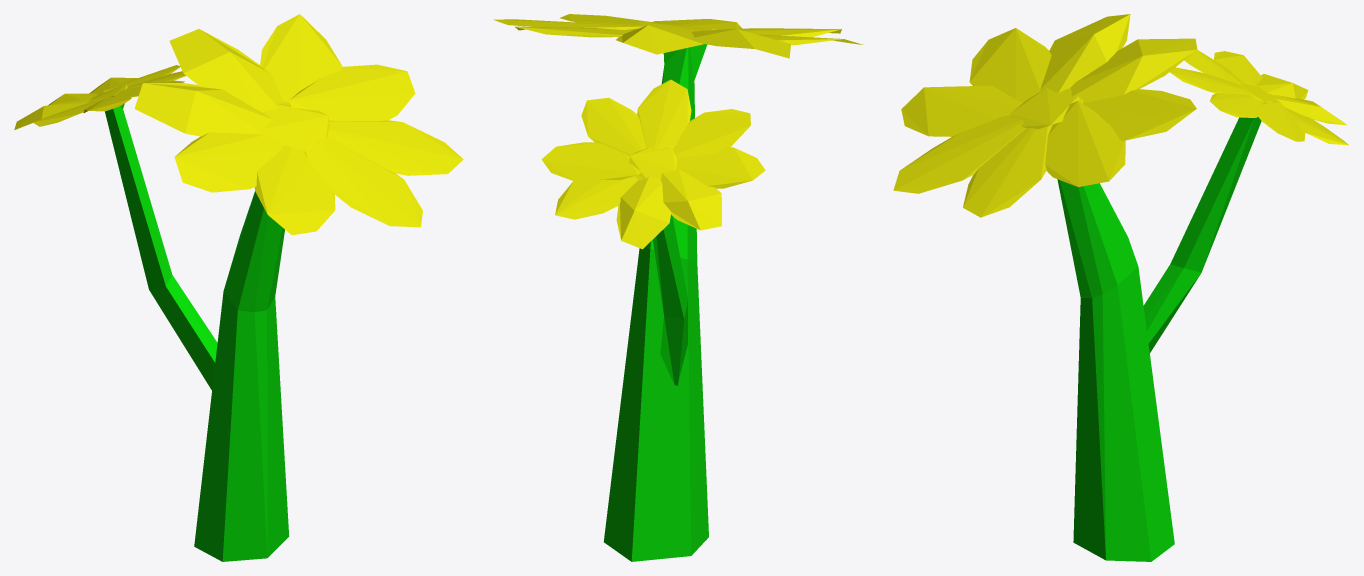
File: Flower#5.001.fbx
3 views of the same model, side by side, from view 1: azimuth 30°, elevation 25°; view 2: azimuth 150°, elevation 25°; view 3: azimuth 270°, elevation 25° (orthographic). The views are drawn at different scales.
Visible parts, largest first — view 1: Flower#5.001; view 2: Flower#5.001; view 3: Flower#5.001.
Part boxes in pixels (bbox=[...]): Flower#5.001: bbox=[14, 14, 463, 561]; Flower#5.001: bbox=[493, 14, 862, 561]; Flower#5.001: bbox=[893, 14, 1348, 561].
Bounding box in the file's own units: 26.31 × 39.66 × 33.26.
